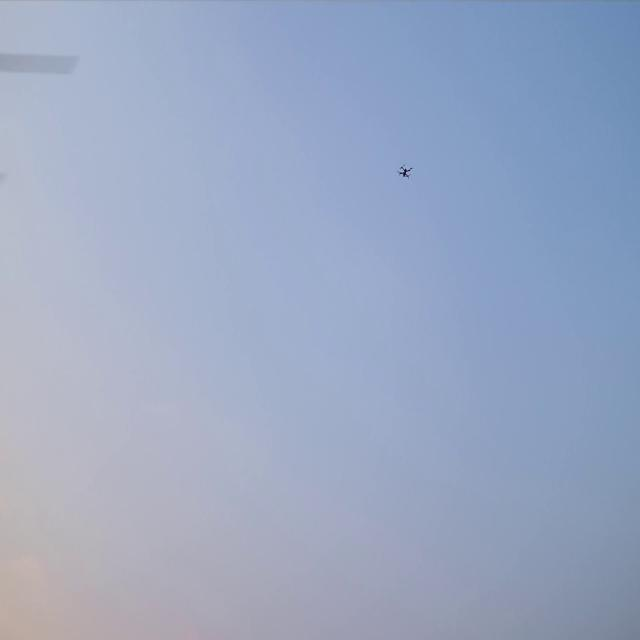UAV: (399, 167, 411, 176)
